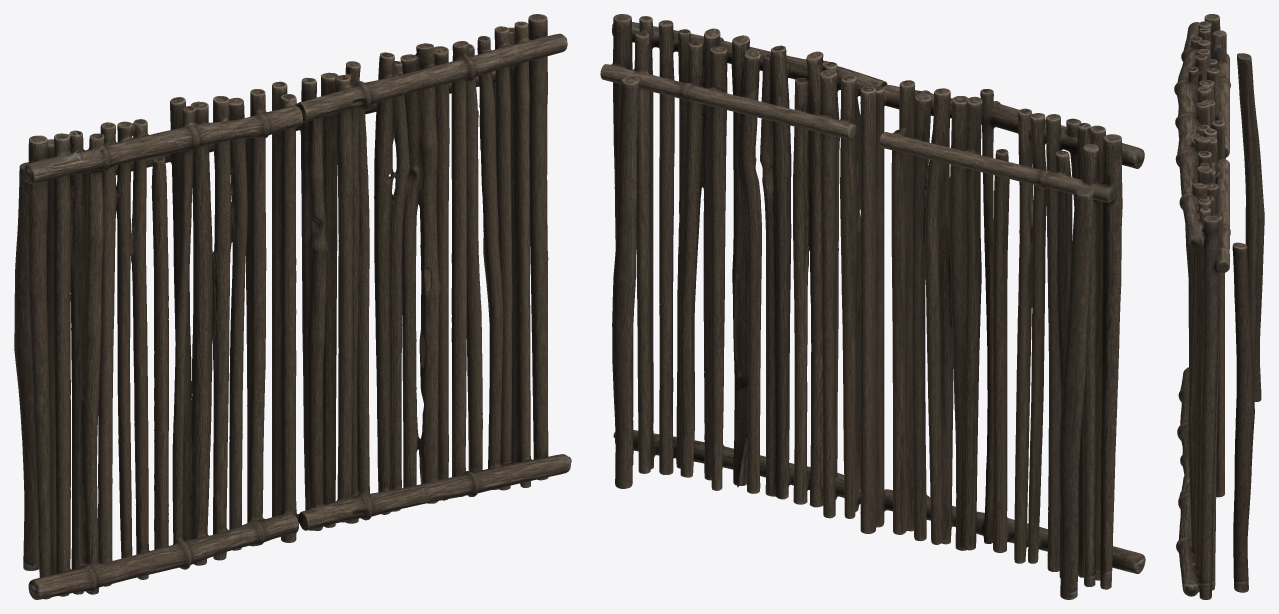
The model's file is prop02.glb.
3 views of the same model, side by side, from view 1: azimuth 30°, elevation 25°; view 2: azimuth 150°, elevation 25°; view 3: azimuth 270°, elevation 25° (orthographic). The views are drawn at different scales.
Visible parts, largest first — view 1: mesh_node; view 2: mesh_node; view 3: mesh_node.
Boxes of the visible parts, x1=… form: mesh_node: x1=14, y1=14, x2=571, y2=599; mesh_node: x1=600, y1=14, x2=1145, y2=599; mesh_node: x1=1174, y1=14, x2=1264, y2=599.
Size of the model in its own units: 1.9 by 1.56 by 0.3325.
Materials: 1 (1 with a texture image).
